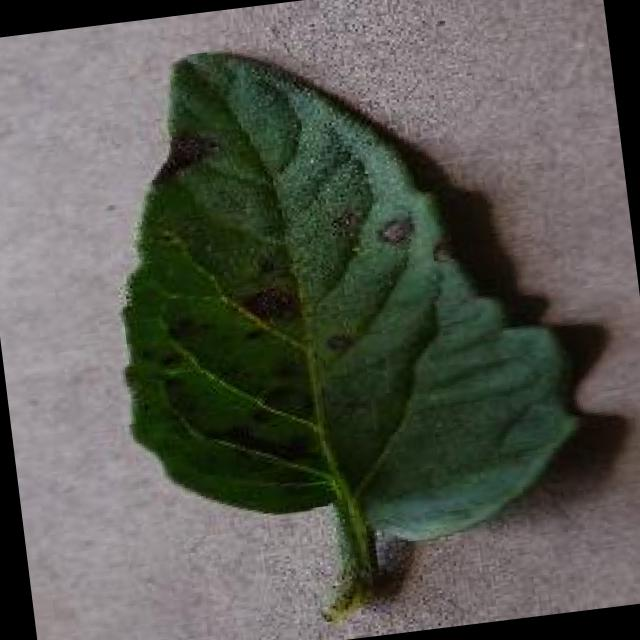Tomato_Early_Blight: (84, 0, 579, 543)
